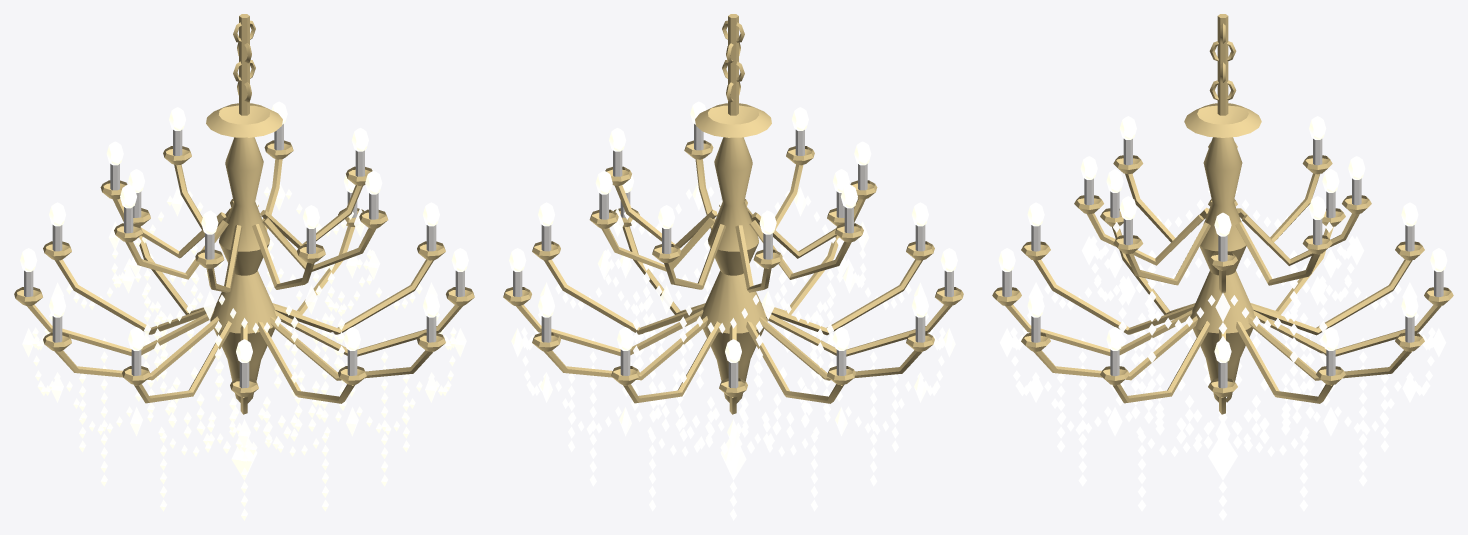
The model's file is chandelier-grand.glb.
The picture shows the model from 3 angles, left to right: view 1: azimuth 30°, elevation 25°; view 2: azimuth 150°, elevation 25°; view 3: azimuth 270°, elevation 25°; orthographic projection.
Visible parts, largest first — view 1: frame, crystals, lights; view 2: frame, crystals, lights; view 3: frame, crystals, lights.
Part boxes in pixels (left/top/right/bottom): frame: left=14, top=14, right=474, bottom=414; crystals: left=22, top=183, right=466, bottom=520; lights: left=20, top=101, right=468, bottom=362; frame: left=503, top=14, right=963, bottom=414; crystals: left=511, top=183, right=955, bottom=520; lights: left=509, top=101, right=957, bottom=362; frame: left=992, top=14, right=1453, bottom=414; crystals: left=999, top=189, right=1446, bottom=520; lights: left=998, top=103, right=1447, bottom=362.
Bounding box in the file's own units: 2.14 × 2.38 × 2.14.
